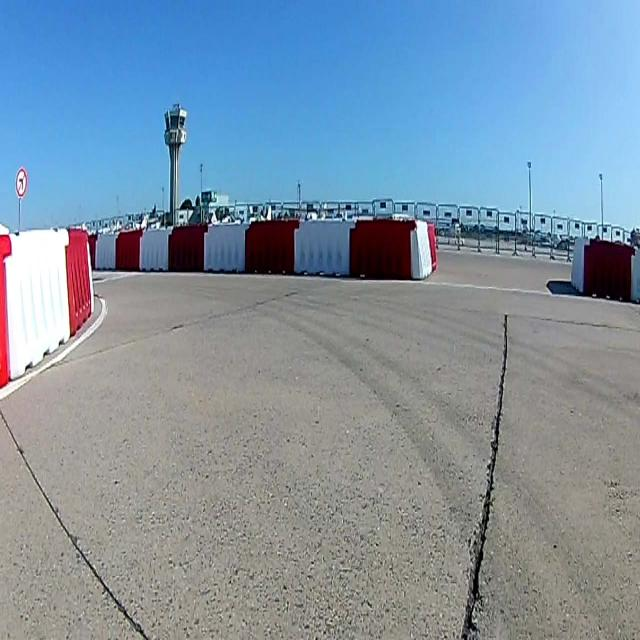soladonulmez: (15, 168, 27, 196)
